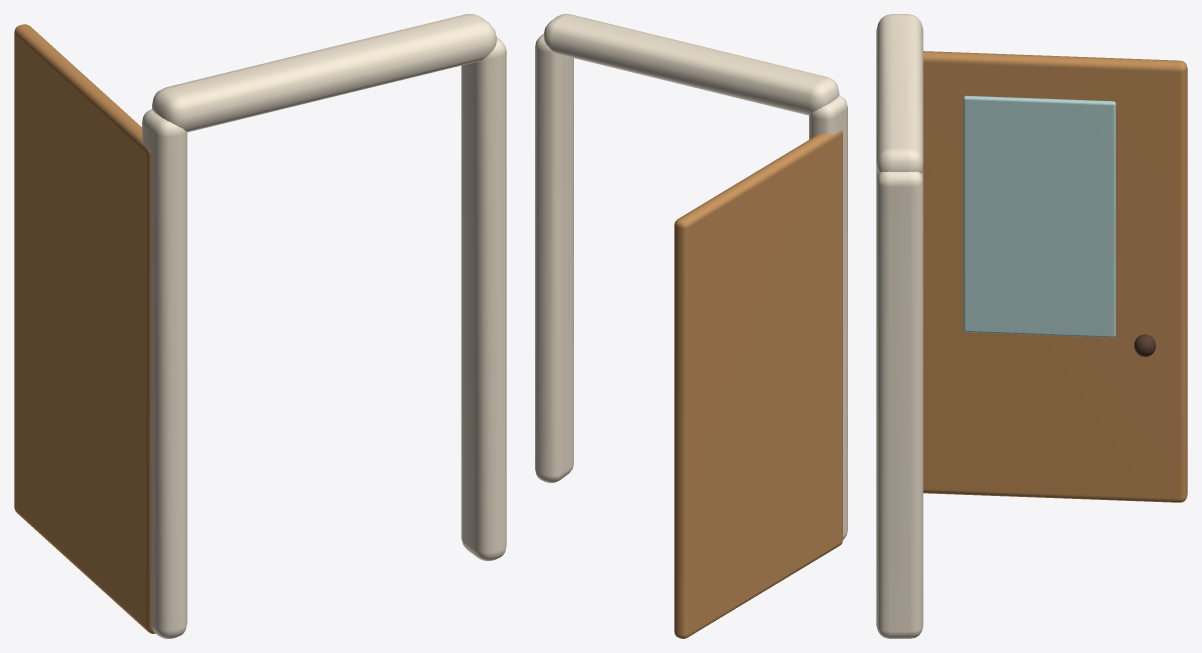
Rendered from cafe-door.obj.
3 views of the same model, side by side, from view 1: azimuth 30°, elevation 25°; view 2: azimuth 150°, elevation 25°; view 3: azimuth 270°, elevation 25° (orthographic). The views are drawn at different scales.
Visible parts, largest first — view 1: cafe-door_oak, cafe-door_ivory; view 2: cafe-door_oak, cafe-door_ivory; view 3: cafe-door_oak, cafe-door_glass, cafe-door_ivory.
Part boxes in pixels (x1,y1,x2,y2): cafe-door_oak: [14, 24, 155, 633]; cafe-door_ivory: [142, 14, 506, 638]; cafe-door_oak: [674, 130, 842, 638]; cafe-door_ivory: [535, 14, 847, 539]; cafe-door_oak: [923, 51, 1187, 502]; cafe-door_glass: [963, 95, 1115, 337]; cafe-door_ivory: [876, 14, 923, 638].
Bounding box in the file's own units: 1.17 × 1.71 × 0.9936.
